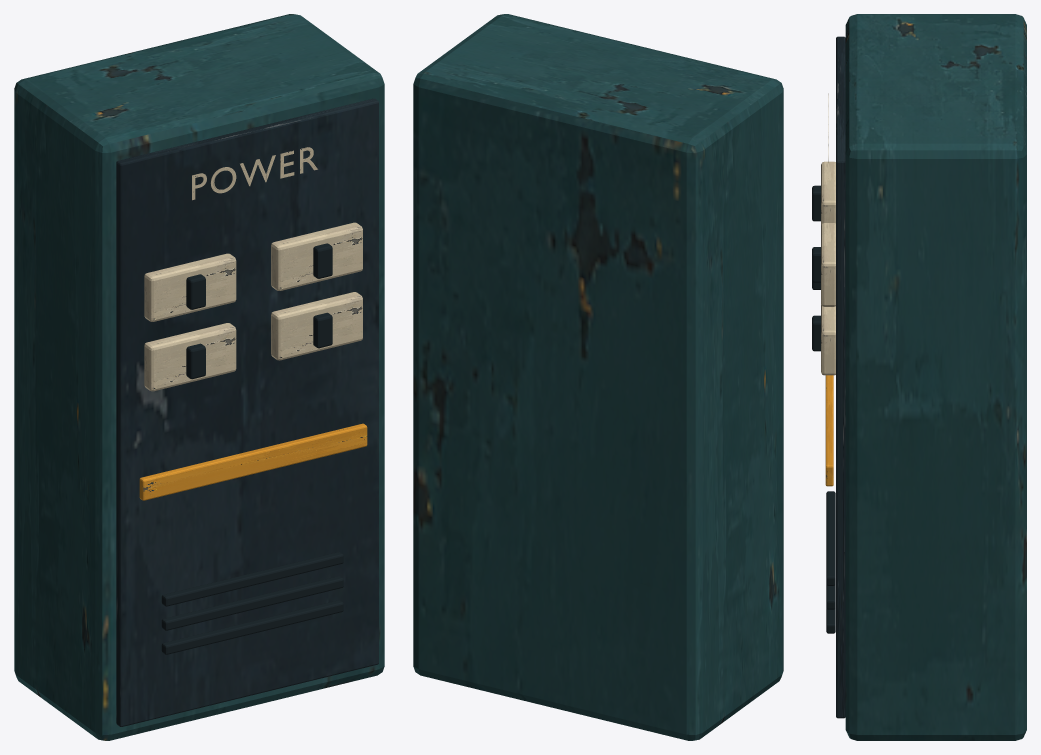
The model's file is electrical-cabinet.glb.
3 renders of one model, left to right at view 1: azimuth 30°, elevation 25°; view 2: azimuth 150°, elevation 25°; view 3: azimuth 270°, elevation 25°, orthographic.
Parts seen in each view (by area): view 1: electrical-cabinet__electrical-cabinet__steel, electrical-cabinet__electrical-cabinet__petrol, electrical-cabinet__electrical-cabinet__ivory, electrical-cabinet__electrical-cabinet__rubber, electrical-cabinet__electrical-cabinet__amber; view 2: electrical-cabinet__electrical-cabinet__petrol; view 3: electrical-cabinet__electrical-cabinet__petrol, electrical-cabinet__electrical-cabinet__steel, electrical-cabinet__electrical-cabinet__ivory, electrical-cabinet__electrical-cabinet__rubber, electrical-cabinet__electrical-cabinet__amber.
Part boxes in pixels (x1,y1,x2,y2): electrical-cabinet__electrical-cabinet__steel: (116, 98, 378, 726); electrical-cabinet__electrical-cabinet__petrol: (14, 14, 384, 740); electrical-cabinet__electrical-cabinet__ivory: (144, 147, 362, 391); electrical-cabinet__electrical-cabinet__rubber: (161, 243, 343, 654); electrical-cabinet__electrical-cabinet__amber: (139, 423, 367, 500); electrical-cabinet__electrical-cabinet__petrol: (413, 14, 783, 740); electrical-cabinet__electrical-cabinet__petrol: (845, 14, 1026, 740); electrical-cabinet__electrical-cabinet__steel: (836, 36, 845, 718); electrical-cabinet__electrical-cabinet__ivory: (821, 93, 835, 375); electrical-cabinet__electrical-cabinet__rubber: (812, 185, 835, 633); electrical-cabinet__electrical-cabinet__amber: (825, 375, 833, 486).
Size of the model in its own units: 1 by 2 by 0.6525.
5 materials, 4 textured.
